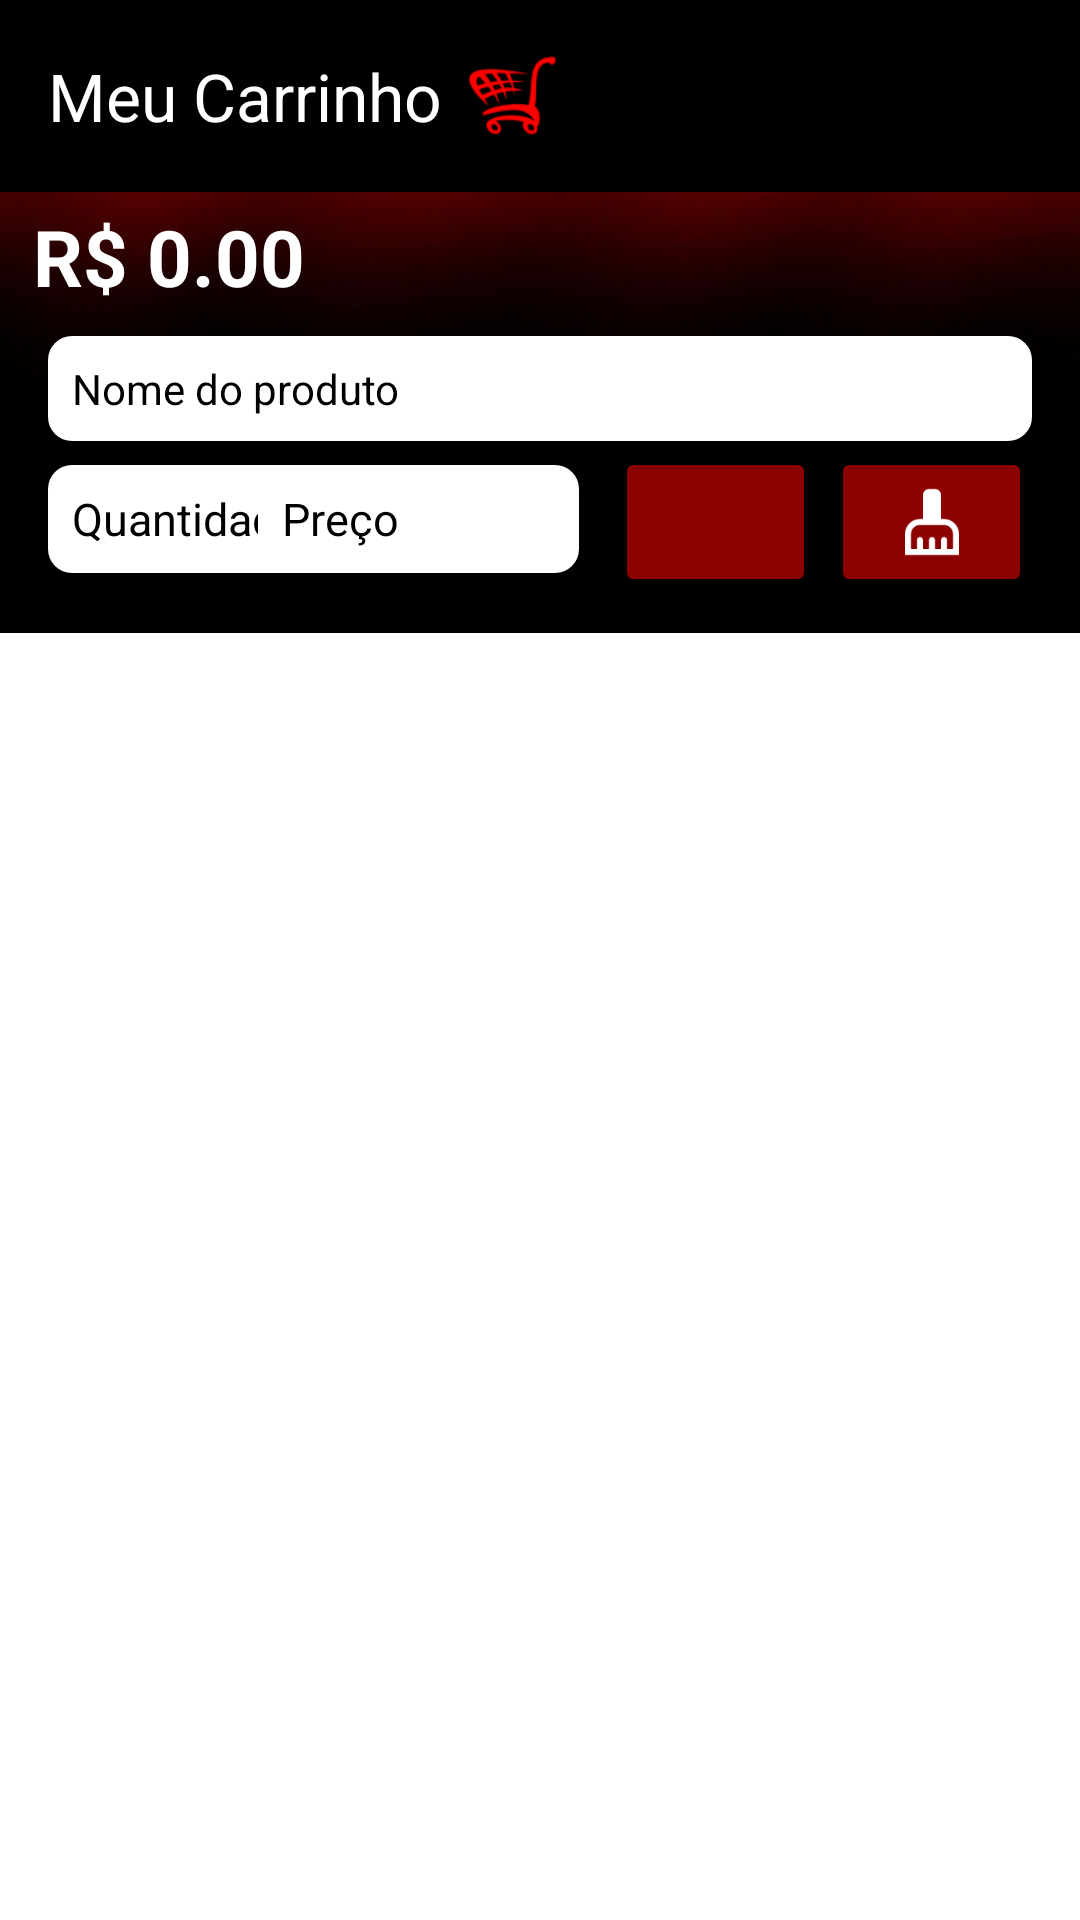

Icons on this 1080px x 1920px Android screen, each with its box as {"left": x1, "top": y1, "right": x2, "bottom": y2}:
clear: {"left": 843, "top": 465, "right": 1020, "bottom": 579}
